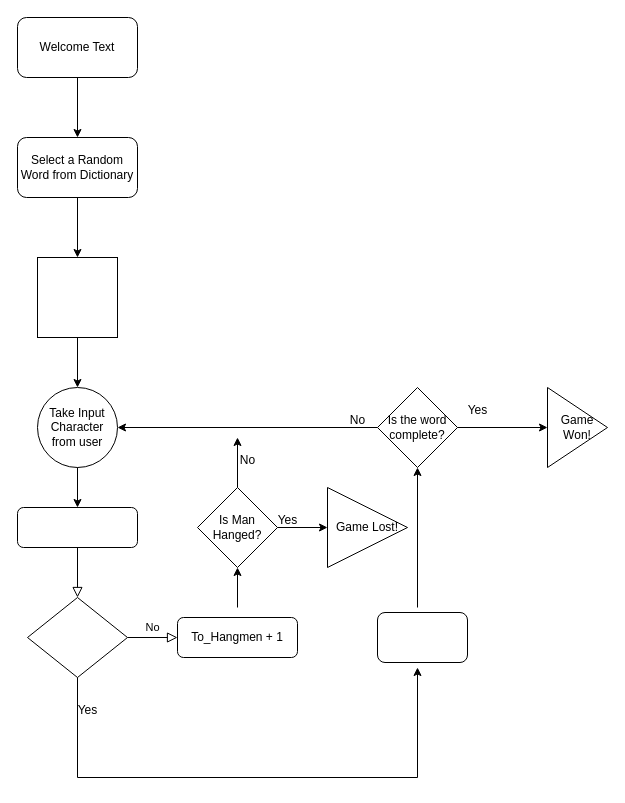
This 625x803 diagram has some shape labels left out. The shapes that lost their labels are listed below. From the top down, each one's box as (x1, y1, x2, y2) in pixels, then its label:
(36, 256, 118, 338): Print '_' times the length of selected word
(16, 506, 138, 548): Check The Typed Word
(26, 596, 128, 678): Is Correct?
(376, 612, 468, 662): Fill the correct charcter
